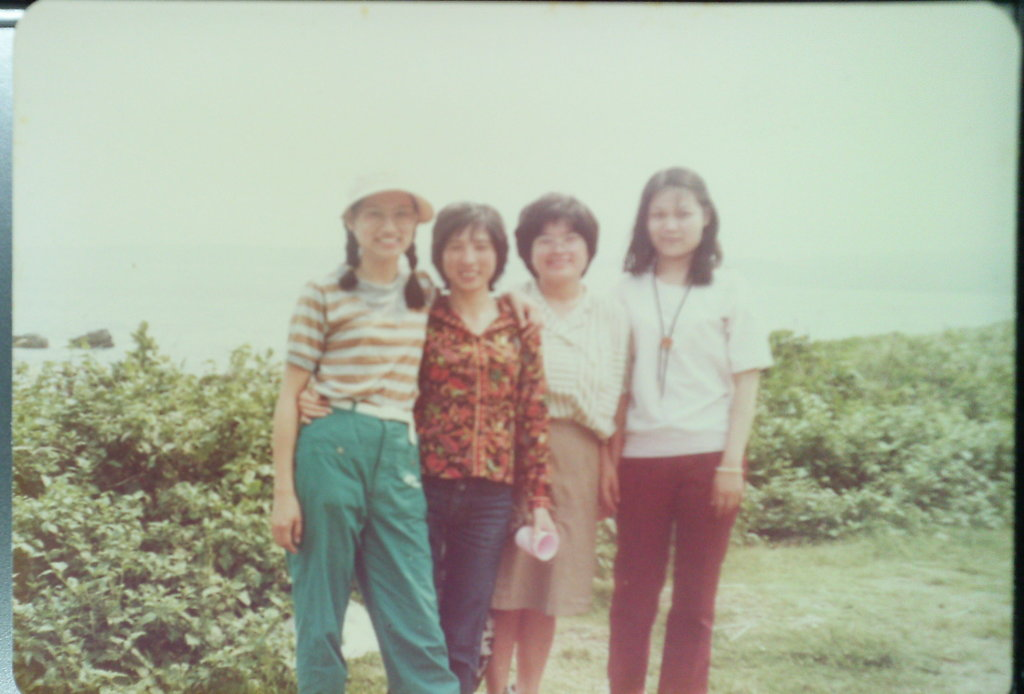Human-face: (634, 174, 719, 268), (344, 174, 423, 262), (521, 201, 596, 284), (438, 217, 511, 295)
